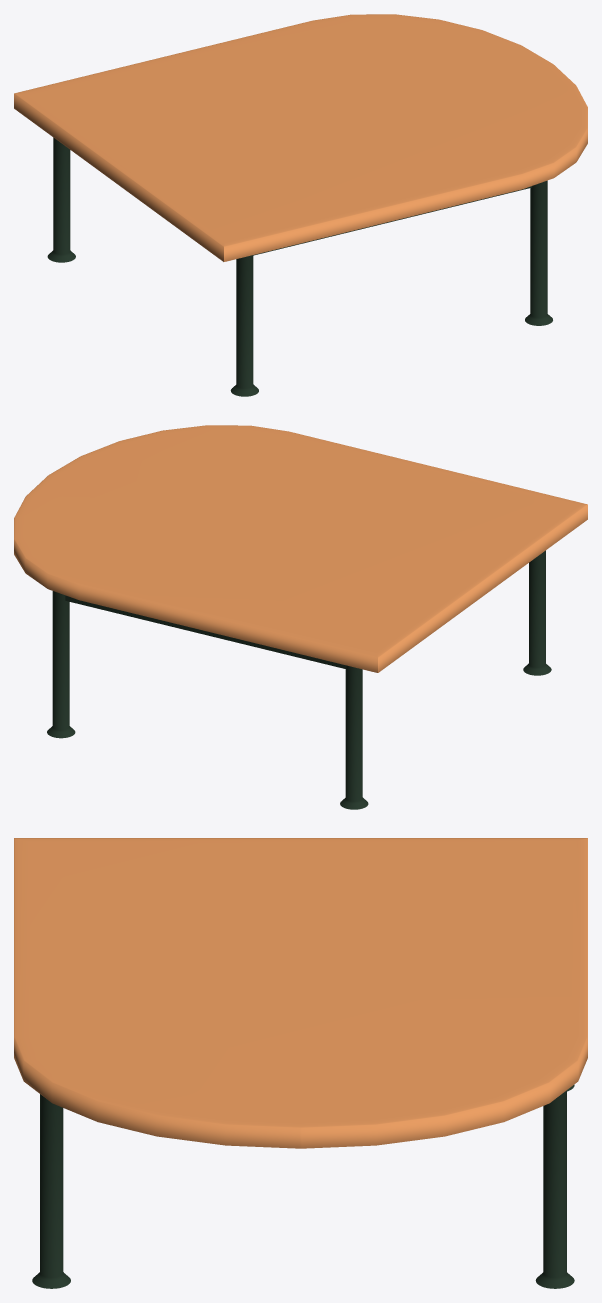
The model's file is Mesacurva.fbx.
The picture shows the model from 3 angles, top to bottom: view 1: azimuth 30°, elevation 25°; view 2: azimuth 150°, elevation 25°; view 3: azimuth 270°, elevation 25°; orthographic projection. The views are drawn at different scales.
Visible parts, largest first — view 1: Mesa2; view 2: Mesa2; view 3: Mesa2.
Boxes of the visible parts, left/top/right/bottom form: Mesa2: left=14, top=14, right=587, bottom=396; Mesa2: left=14, top=425, right=587, bottom=809; Mesa2: left=14, top=838, right=587, bottom=1288.
Bounding box in the file's own units: 804 × 289 × 672.
